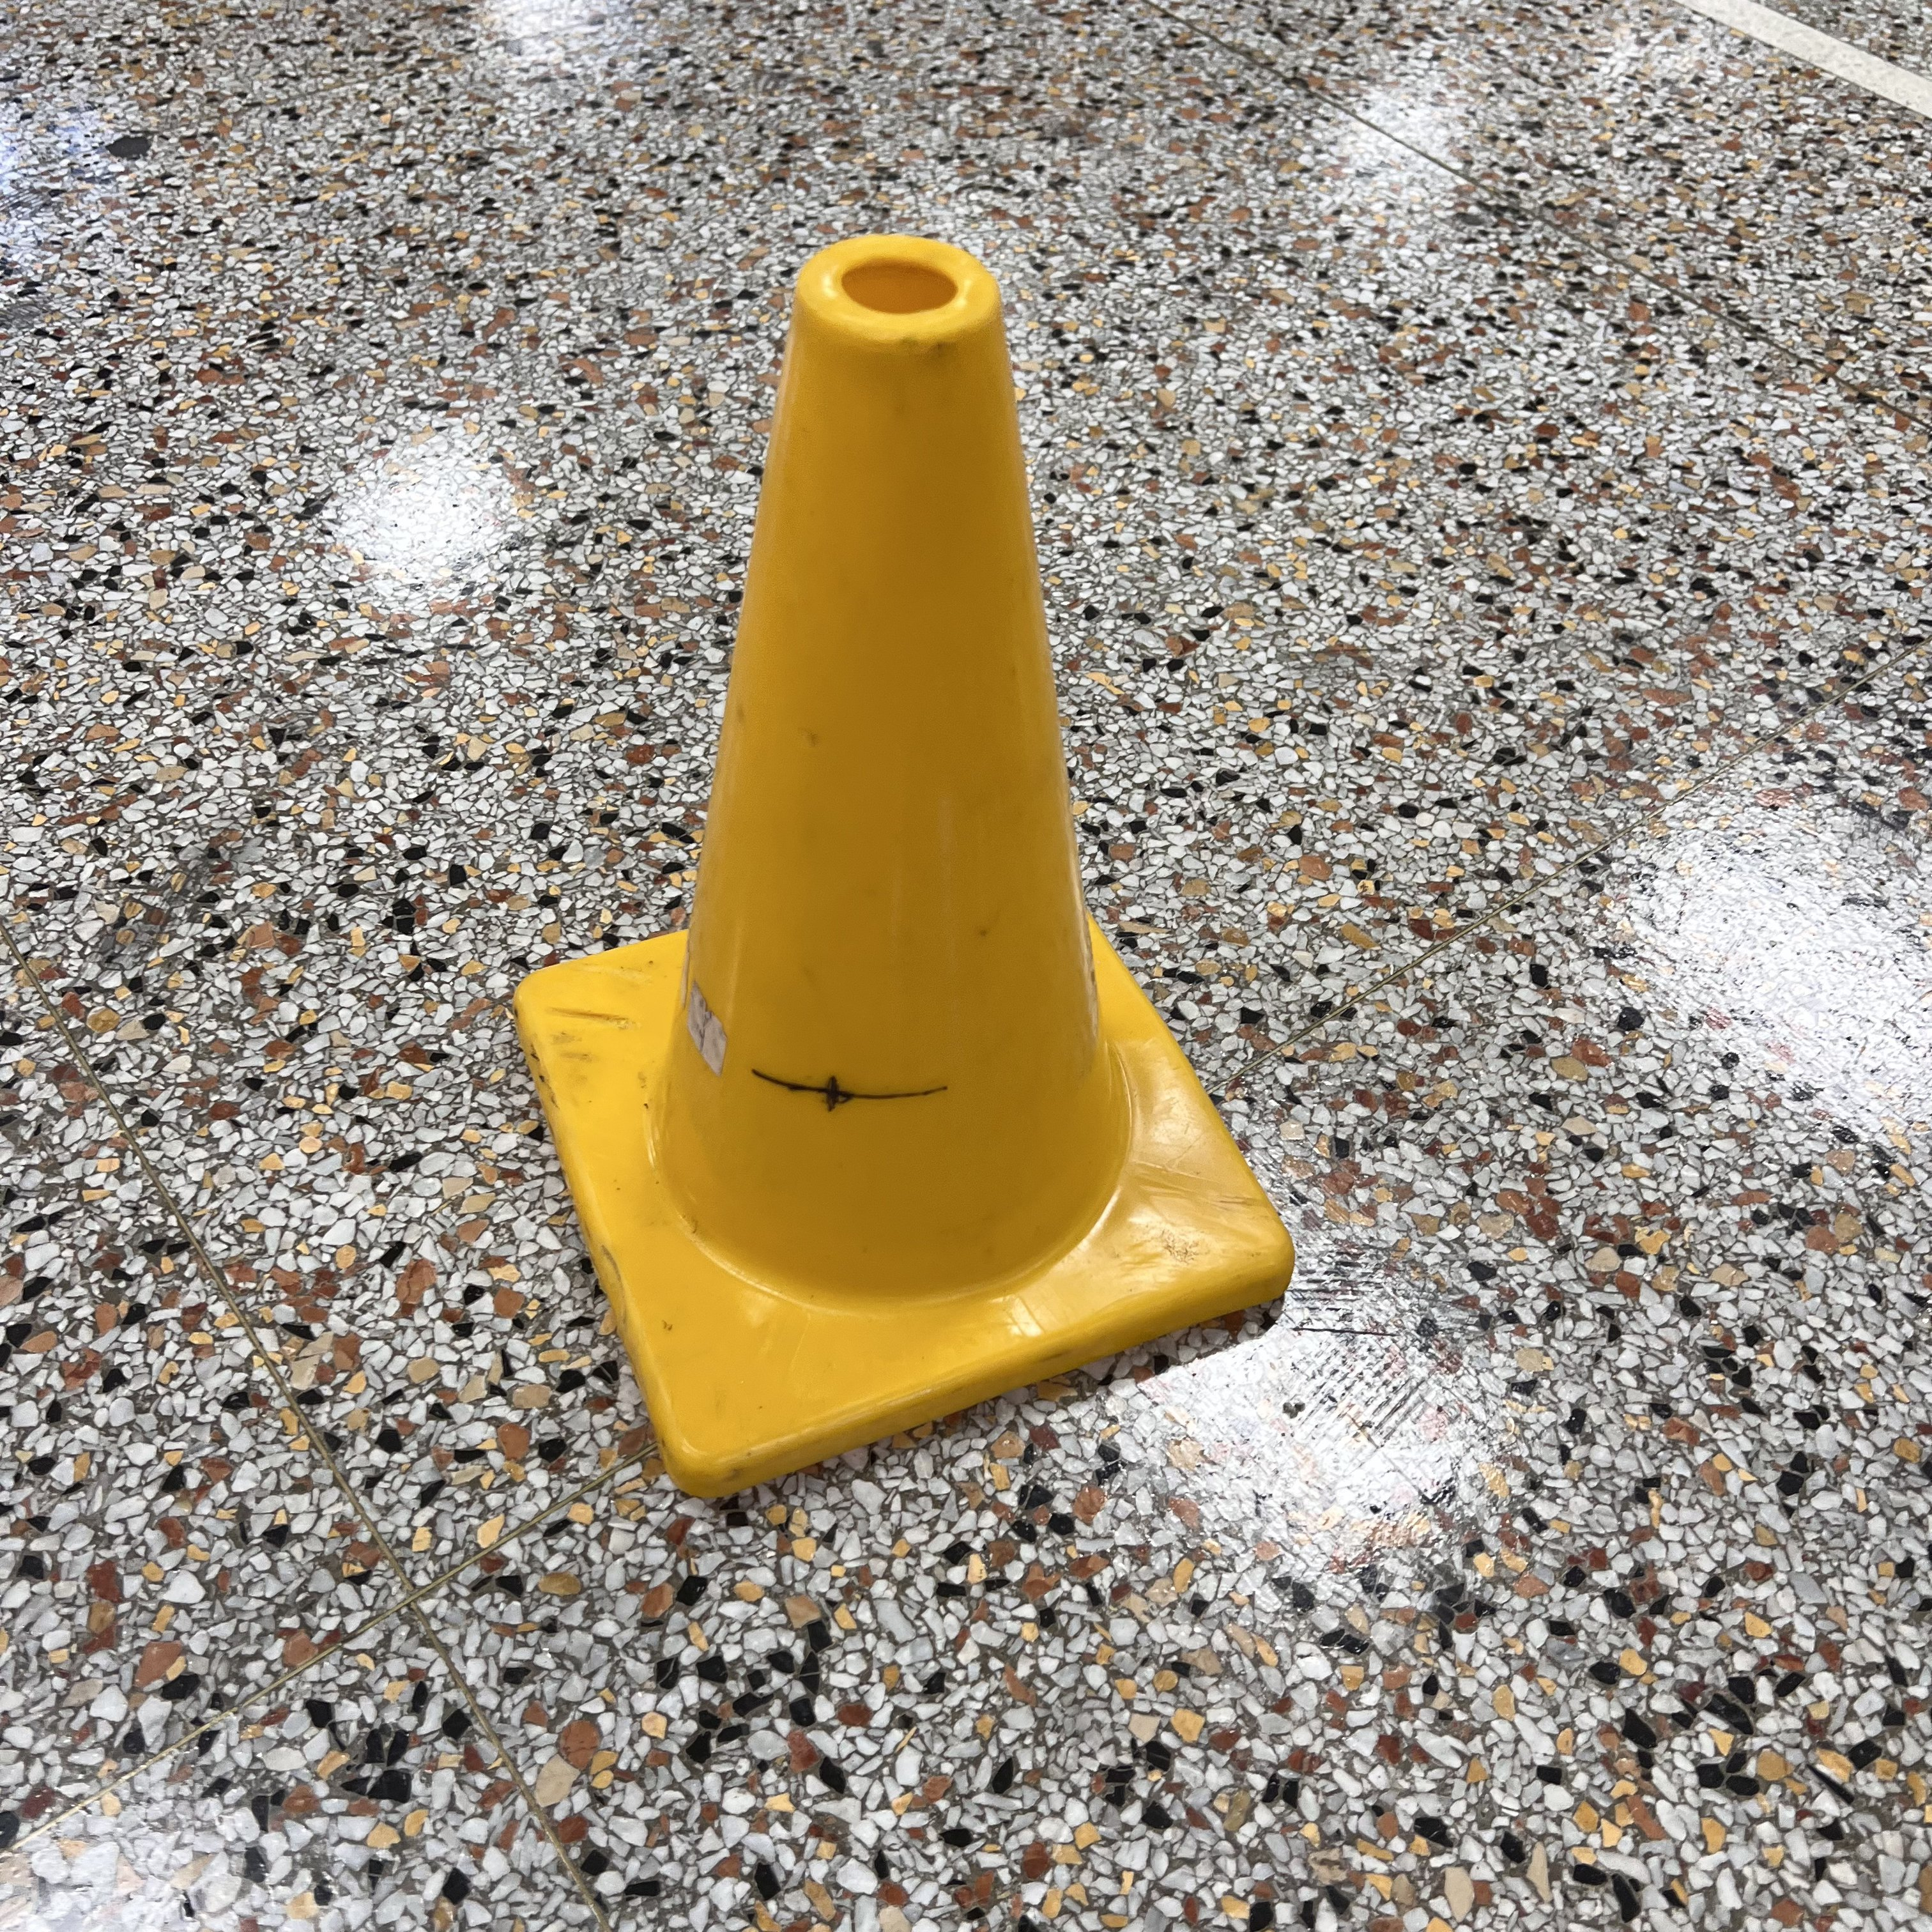cone: (511, 232, 1292, 1493)
